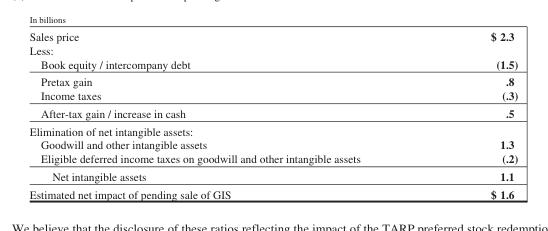table: (28, 29, 517, 200)
table column: (28, 29, 424, 200), (424, 29, 517, 200)
table projected row header: (28, 121, 517, 137), (28, 42, 517, 56)
table row: (28, 104, 517, 121), (28, 167, 517, 184), (28, 56, 517, 72), (28, 72, 517, 88), (28, 88, 517, 104), (28, 121, 517, 137), (28, 151, 517, 167), (28, 184, 517, 200), (28, 42, 517, 56), (28, 137, 517, 151), (28, 29, 517, 42)
